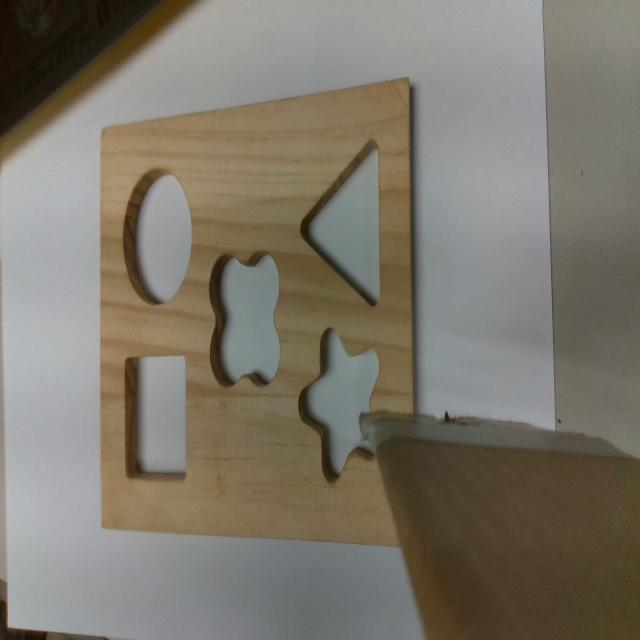circle: (124, 169, 193, 303)
flower: (212, 250, 281, 385)
square: (122, 356, 187, 477)
star: (298, 330, 379, 483)
triangle: (301, 137, 384, 312)
